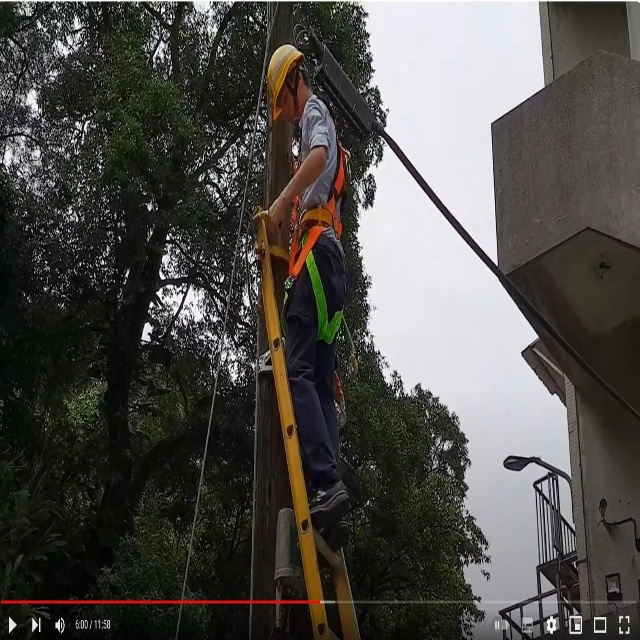Arnes_seguridad: (287, 103, 349, 352)
